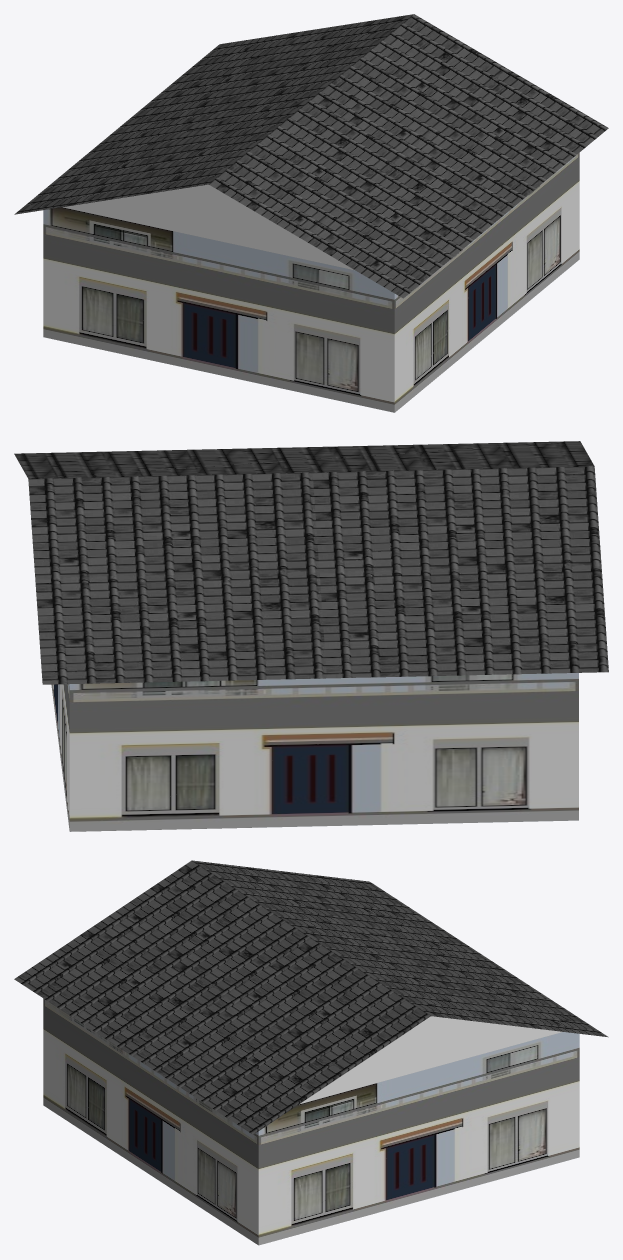
3 views of the same model, one above another, from view 1: azimuth 30°, elevation 25°; view 2: azimuth 150°, elevation 25°; view 3: azimuth 270°, elevation 25° (orthographic). The views are drawn at different scales.
Visible parts, largest first — view 1: CityEngineMaterial_8_m, CityEngineMaterial_7_m, CityEngineMaterial_3_m; view 2: CityEngineMaterial_8_m, CityEngineMaterial_7_m; view 3: CityEngineMaterial_8_m, CityEngineMaterial_7_m, CityEngineMaterial_3_m.
Boxes of the visible parts, <box> form: CityEngineMaterial_8_m: <box>14,14,608,298</box>; CityEngineMaterial_7_m: <box>43,153,579,412</box>; CityEngineMaterial_3_m: <box>63,184,354,270</box>; CityEngineMaterial_8_m: <box>14,441,608,684</box>; CityEngineMaterial_7_m: <box>51,673,578,831</box>; CityEngineMaterial_8_m: <box>14,860,608,1134</box>; CityEngineMaterial_7_m: <box>43,998,579,1245</box>; CityEngineMaterial_3_m: <box>299,1016,562,1104</box>.
Size of the model in its own units: 27.18 by 9.66 by 26.98.
